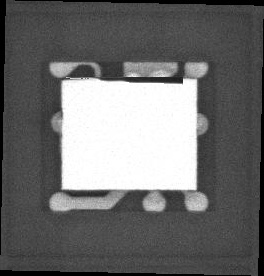DIE_BROKEN: (95, 75, 187, 87)
